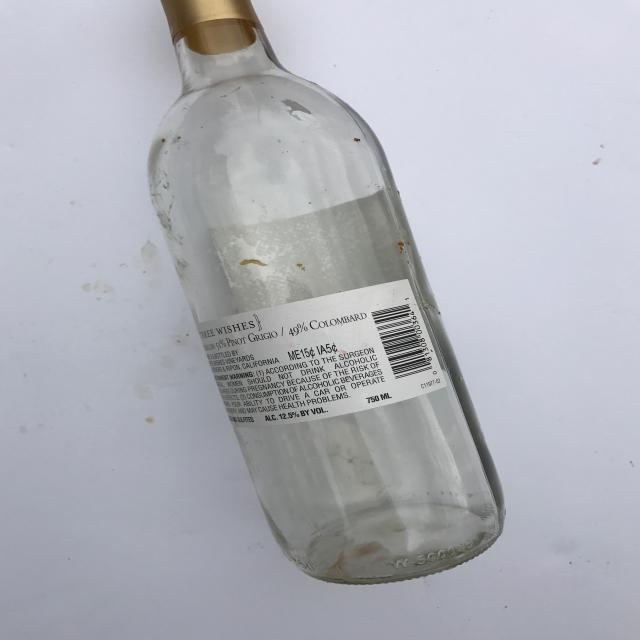glass: (145, 0, 508, 585)
